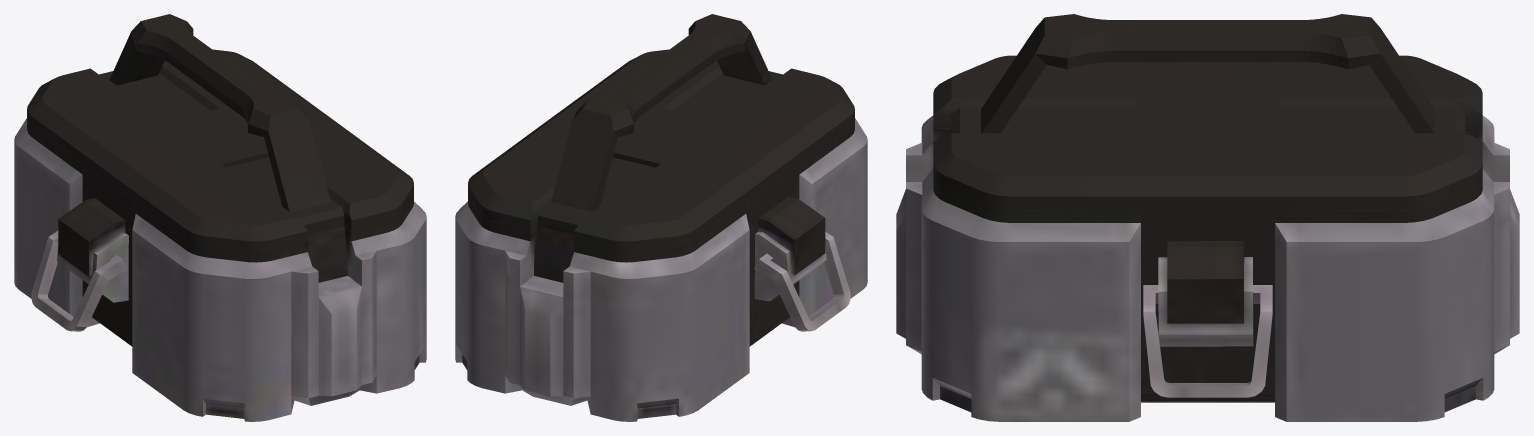
The model's file is Prop_Ammo_Closed.gltf.
3 views of the same model, side by side, from view 1: azimuth 30°, elevation 25°; view 2: azimuth 150°, elevation 25°; view 3: azimuth 270°, elevation 25° (orthographic). The views are drawn at different scales.
Parts seen in each view (by area): view 1: Prop_Ammo_Closed; view 2: Prop_Ammo_Closed; view 3: Prop_Ammo_Closed.
Part boxes in pixels (left/top/right/bottom): Prop_Ammo_Closed: left=14, top=14, right=426, bottom=421; Prop_Ammo_Closed: left=455, top=14, right=867, bottom=421; Prop_Ammo_Closed: left=896, top=14, right=1519, bottom=421.
Size of the model in its own units: 0.5707 by 0.4122 by 0.7229.
Materials: 1 (1 with a texture image).
